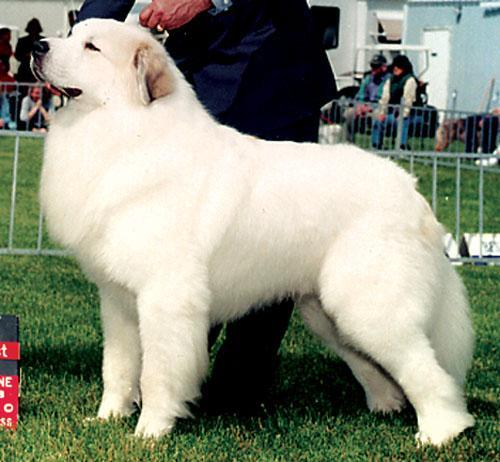Great_Pyrenees: (24, 16, 478, 445)
